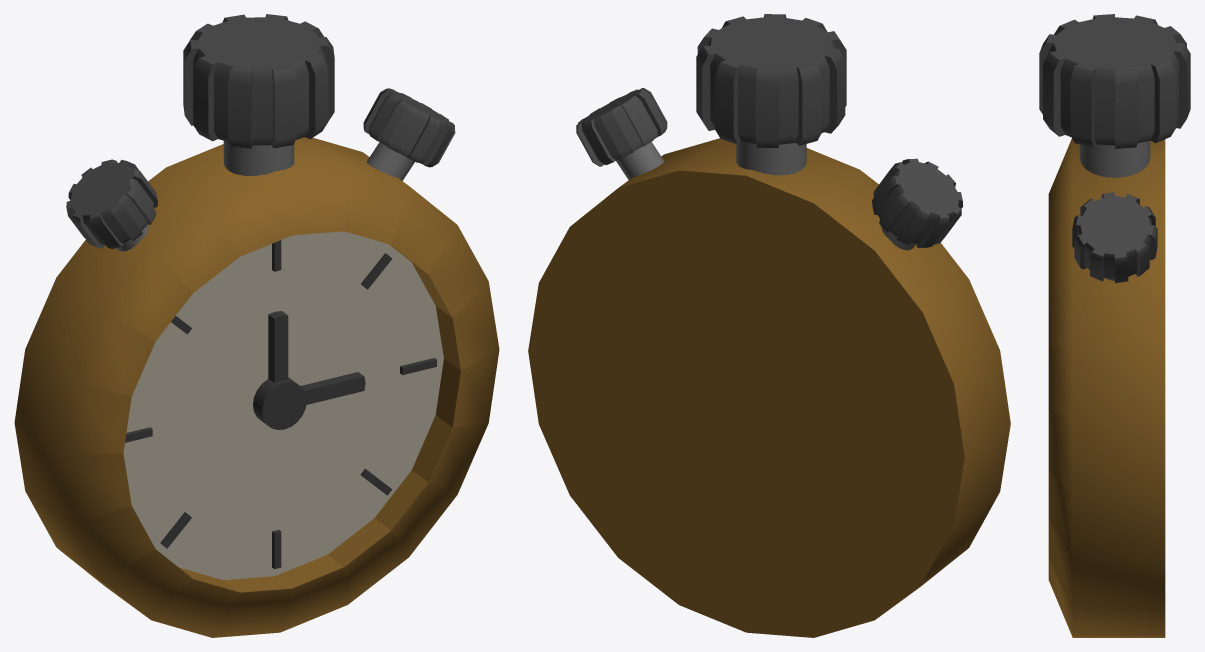
The model's file is Stopwatch.fbx.
3 views of the same model, side by side, from view 1: azimuth 30°, elevation 25°; view 2: azimuth 150°, elevation 25°; view 3: azimuth 270°, elevation 25° (orthographic).
Parts seen in each view (by area): view 1: Stopwtach_msh, Stopwatch_Part02_msh, Timer01_msh, Timer03_msh, Timer02_msh, Stopwatch_Time_msh, polySurface5, Clock_hand01_msh, Clock_Hand02_msh; view 2: Stopwtach_msh, Timer01_msh, Timer03_msh, Timer02_msh; view 3: Stopwtach_msh, Timer01_msh, Timer02_msh.
Boxes of the visible parts, box(x1,y1,x2,y2) form: Stopwtach_msh: box(14, 137, 499, 637); Stopwatch_Part02_msh: box(123, 231, 443, 580); Timer01_msh: box(183, 14, 334, 175); Timer03_msh: box(66, 159, 157, 251); Timer02_msh: box(363, 88, 455, 180); Stopwatch_Time_msh: box(125, 240, 436, 569); polySurface5: box(253, 377, 306, 429); Clock_hand01_msh: box(268, 311, 288, 383); Clock_Hand02_msh: box(300, 372, 365, 404); Stopwtach_msh: box(528, 138, 1010, 637); Timer01_msh: box(696, 14, 846, 175); Timer03_msh: box(872, 158, 963, 250); Timer02_msh: box(576, 88, 667, 180); Stopwtach_msh: box(1048, 138, 1165, 637); Timer01_msh: box(1039, 14, 1190, 177); Timer02_msh: box(1072, 192, 1157, 283).
Bounding box in the file's own units: 3 × 3.75 × 0.8983.
